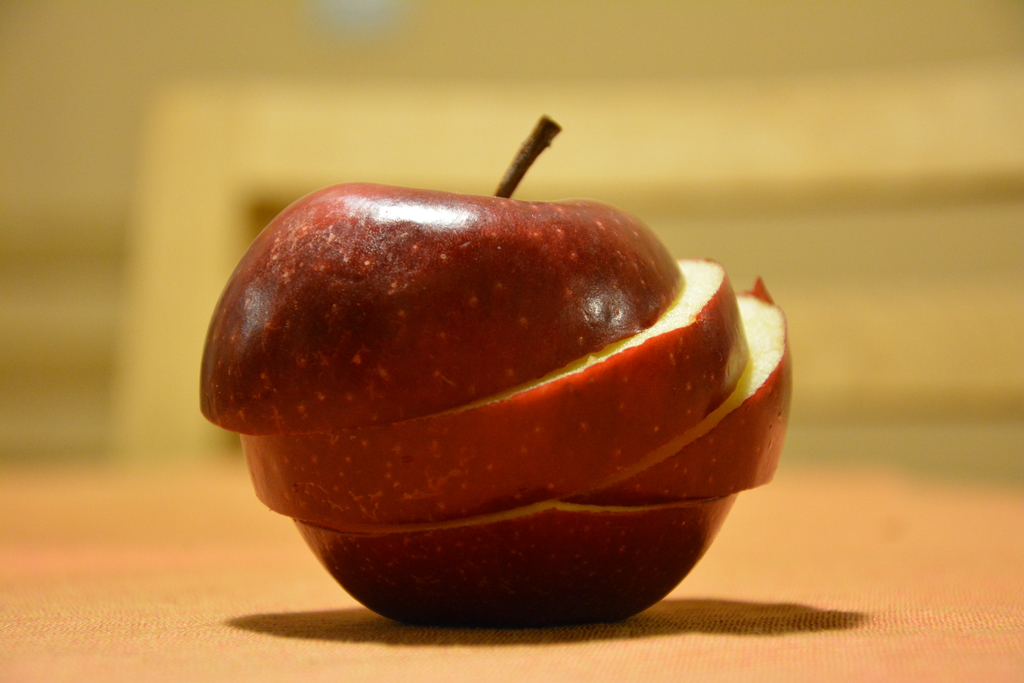Apple: (195, 148, 782, 639)
